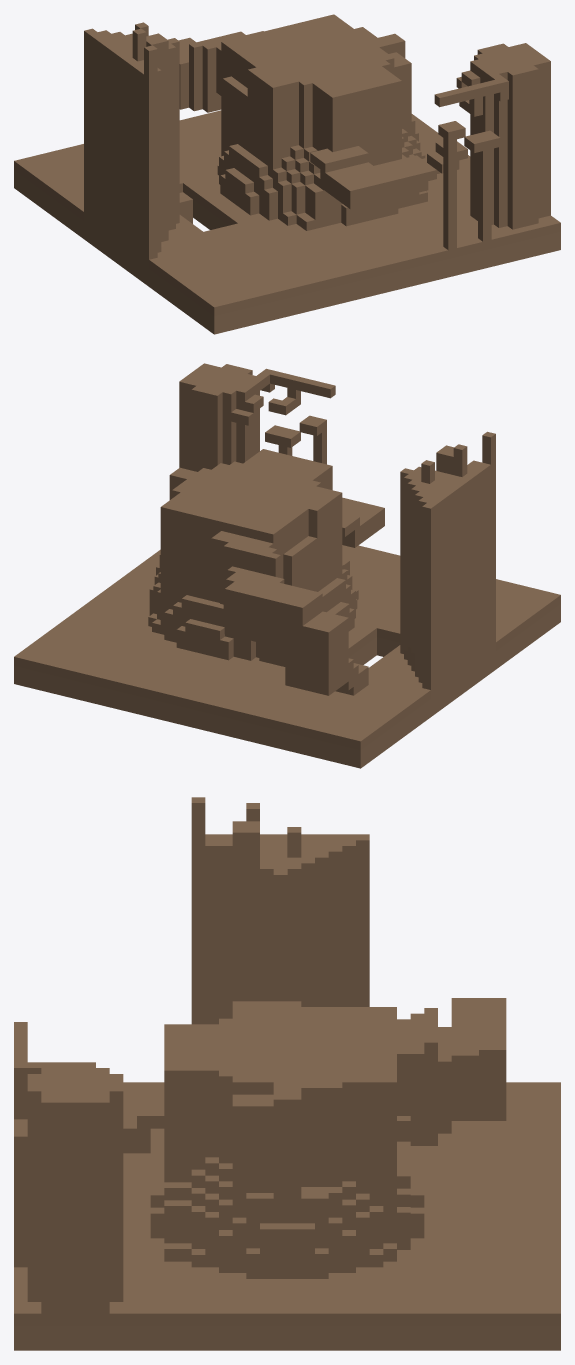
File: lostburg_ground.obj
The picture shows the model from 3 angles, top to bottom: view 1: azimuth 30°, elevation 25°; view 2: azimuth 150°, elevation 25°; view 3: azimuth 270°, elevation 25°; orthographic projection. The views are drawn at different scales.
Parts seen in each view (by area): view 1: Untitled; view 2: Untitled; view 3: Untitled.
Boxes of the visible parts, left/top/right/bottom form: Untitled: left=14, top=14, right=560, bottom=334; Untitled: left=14, top=363, right=560, bottom=768; Untitled: left=14, top=797, right=560, bottom=1350.
Bounding box in the file's own units: 4 × 2.8 × 4.
